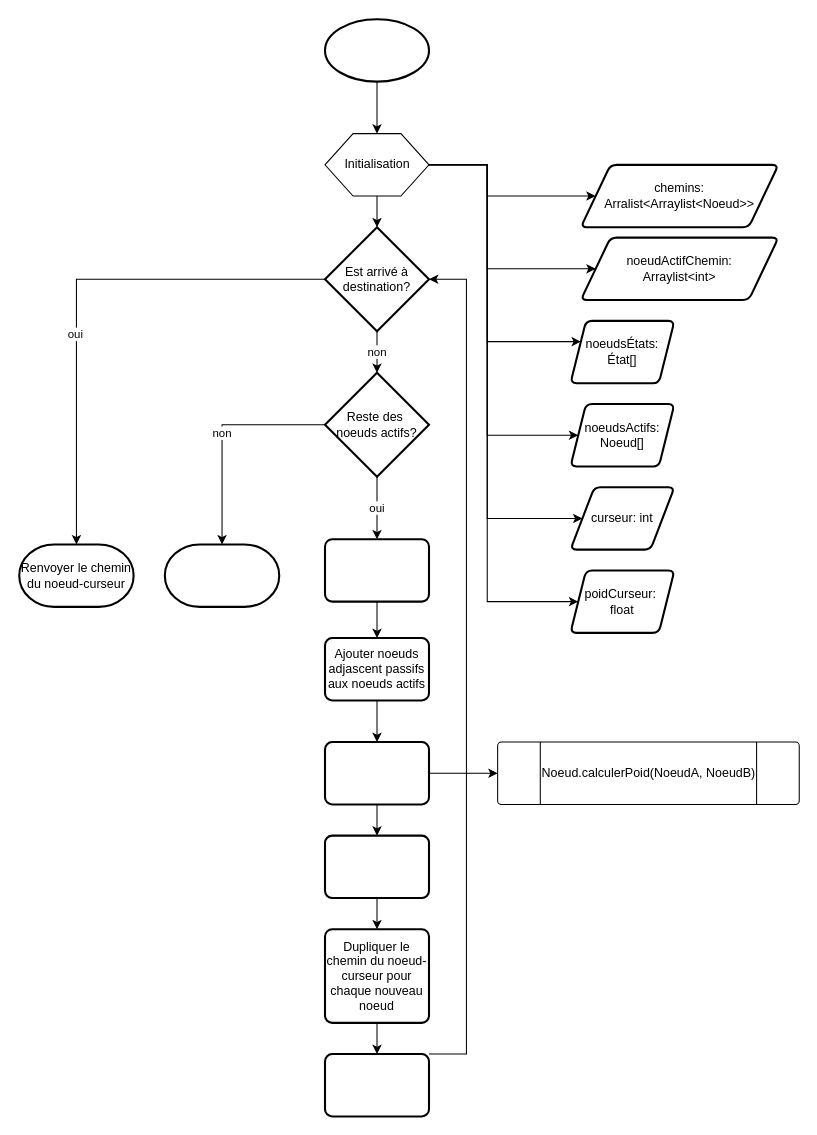
Image size: 817x1135. Some labels were removed from this diagram. Each missing label, with the centre of its shape:
"Ajouter noeud-curseur au chemin du noeud-curseur" goes at pixel 376 866.
"Algorithme A*" goes at pixel 376 50.
"Calculer poids des nouveaux noeuds" goes at pixel 376 772.
"Impossible de trouver un chemin: renvoie Null" goes at pixel 221 575.
"Mettre noeud-curseur dans l'état visité" goes at pixel 376 1084.
"Trouver noeud actif avec poid le plus faible" goes at pixel 376 570.
